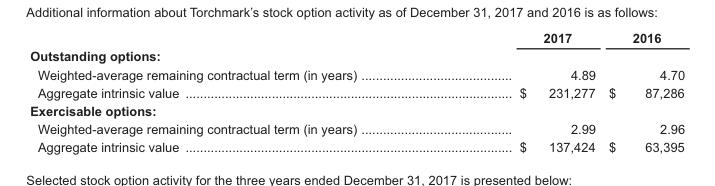table: (29, 29, 684, 155)
table column: (29, 29, 437, 155), (437, 29, 601, 155), (601, 29, 684, 155)
table column header: (29, 29, 684, 47)
table projected row header: (29, 47, 684, 65), (29, 101, 684, 119)
table row: (29, 29, 684, 47), (29, 47, 684, 65), (29, 65, 684, 83), (29, 83, 684, 101), (29, 101, 684, 119), (29, 119, 684, 137), (29, 137, 684, 155)
